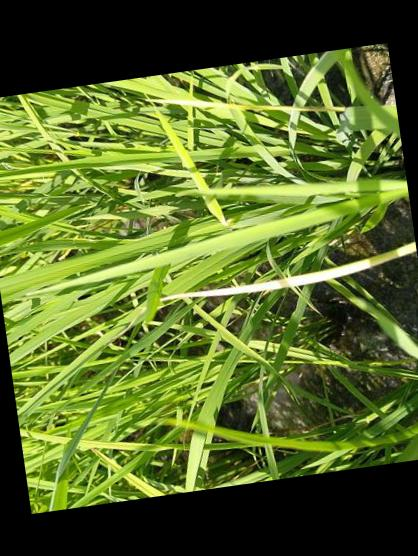Leaf Blight: (162, 240, 416, 299)
